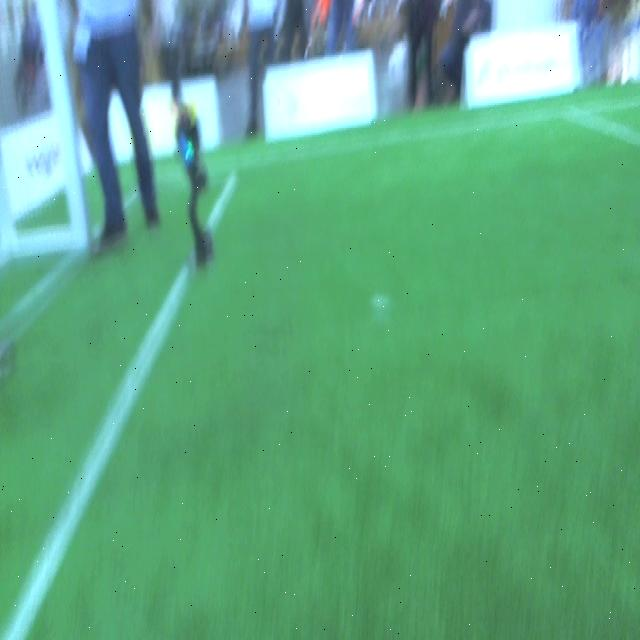goalpost: (37, 0, 92, 252)
